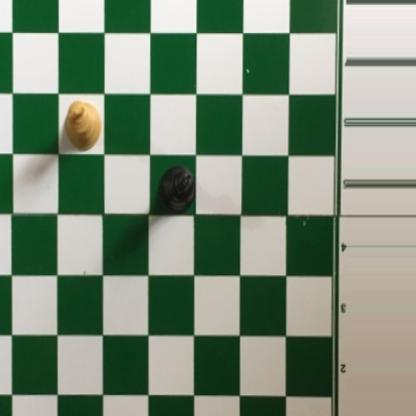black-king: (159, 164, 195, 213)
white-king: (64, 99, 100, 150)
